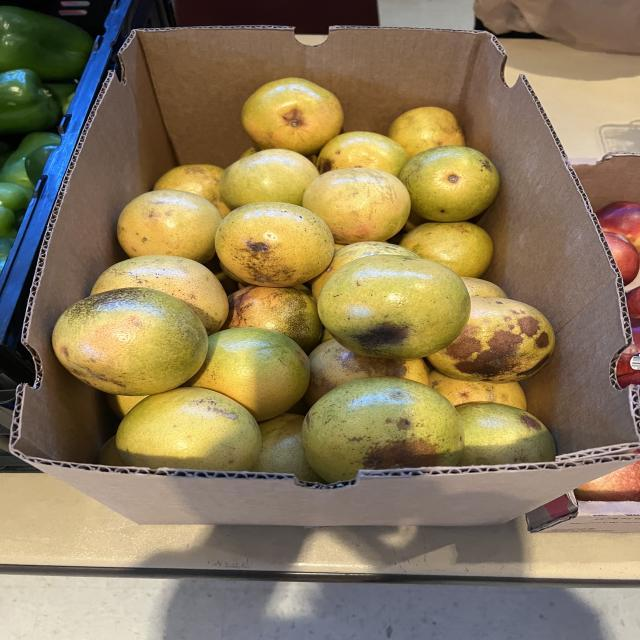Apple -Green-: (302, 376, 463, 482), (52, 288, 208, 396), (317, 255, 470, 359), (115, 388, 262, 471), (183, 328, 310, 421), (428, 296, 555, 382), (92, 255, 228, 335), (215, 202, 333, 288), (305, 339, 428, 406), (302, 168, 410, 244), (398, 145, 500, 222), (242, 78, 343, 155), (117, 190, 222, 262), (222, 286, 322, 354), (457, 402, 557, 466), (312, 241, 420, 299), (218, 149, 318, 210), (400, 221, 493, 278), (253, 412, 325, 484), (153, 164, 230, 218), (317, 131, 408, 176), (428, 369, 527, 410), (388, 106, 465, 158), (462, 276, 507, 299), (107, 394, 147, 418), (98, 436, 125, 466), (215, 271, 240, 295), (240, 148, 258, 159), (320, 329, 333, 342), (333, 242, 345, 251)
Apple -Red-: (573, 461, 640, 501), (597, 201, 640, 251), (603, 231, 640, 285), (617, 326, 640, 389), (625, 286, 640, 345)
Bell Pepper: (0, 6, 93, 80), (0, 69, 60, 134), (0, 132, 60, 189), (0, 182, 33, 238), (25, 144, 58, 184), (43, 82, 77, 115), (0, 238, 15, 272)
